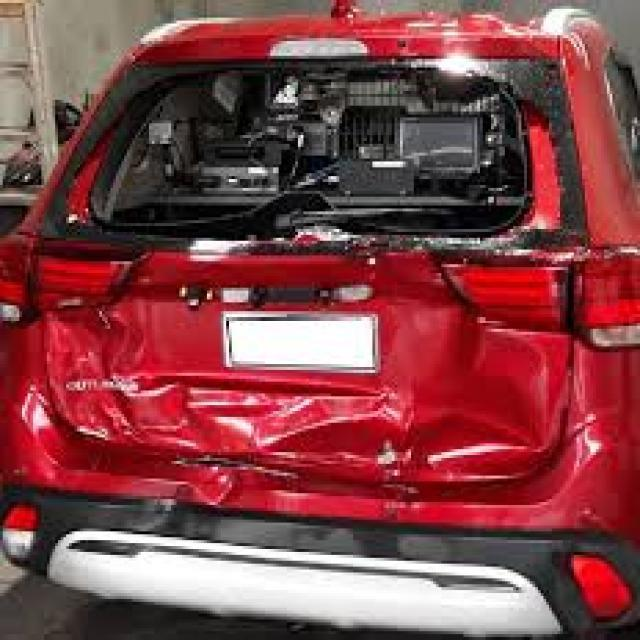damaged-trunk: (46, 54, 579, 488)
